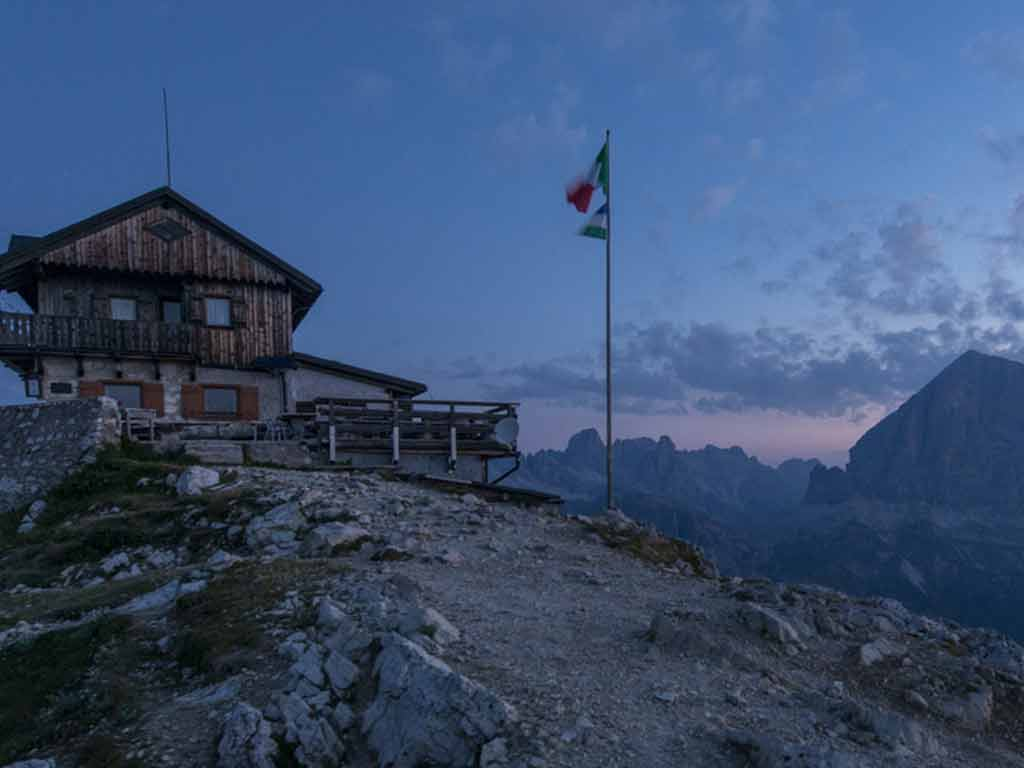Flag: (565, 134, 611, 216)
